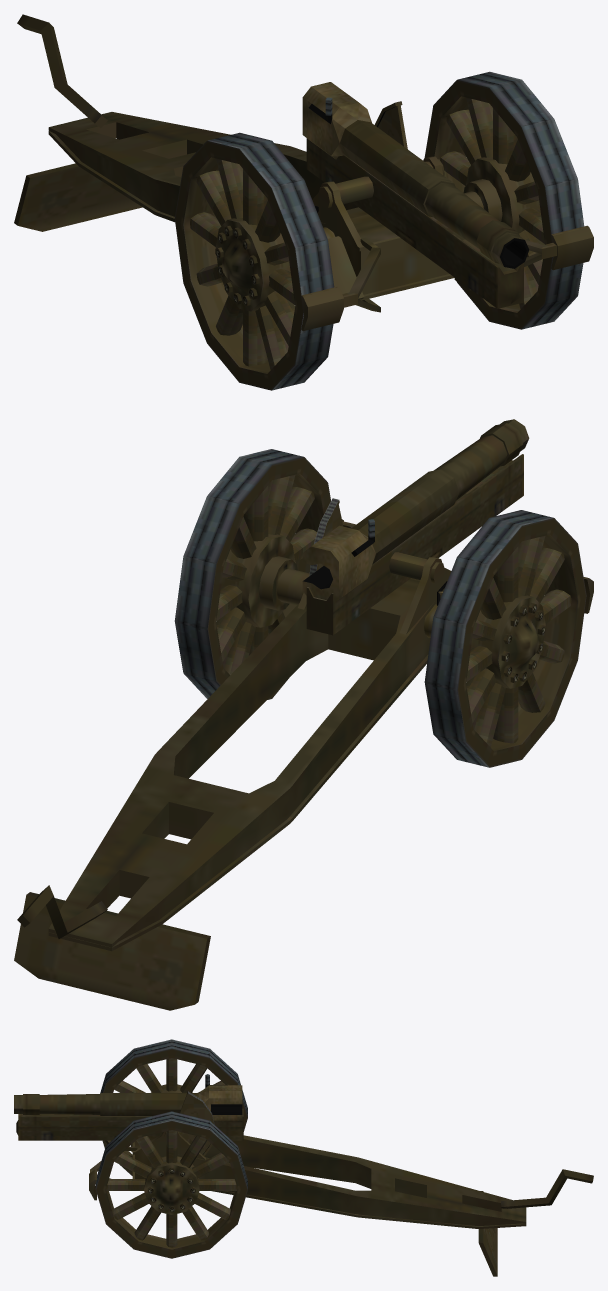
The model's file is SWEHaubitsM06.dae.
3 renders of one model, top to bottom at view 1: azimuth 30°, elevation 25°; view 2: azimuth 150°, elevation 25°; view 3: azimuth 270°, elevation 25°, orthographic. The views are drawn at different scales.
Parts seen in each view (by area): view 1: wheels, carriage, barrel, sleeve; view 2: carriage, wheels, barrel, sleeve; view 3: wheels, carriage, barrel, sleeve.
Boxes of the visible parts, left/top/right/bottom form: wheels: left=174, top=71, right=584, bottom=390; carriage: left=14, top=14, right=593, bottom=331; barrel: left=302, top=82, right=529, bottom=268; sleeve: left=306, top=101, right=523, bottom=308; carriage: left=14, top=519, right=593, bottom=1010; wheels: left=174, top=449, right=586, bottom=767; barrel: left=302, top=419, right=529, bottom=603; sleeve: left=306, top=454, right=523, bottom=635; wheels: left=95, top=1039, right=247, bottom=1258; carriage: left=89, top=1131, right=593, bottom=1276; barrel: left=14, top=1074, right=242, bottom=1122; sleeve: left=16, top=1091, right=243, bottom=1156.
Size of the model in its own units: 15.71 by 43.75 by 14.78.
